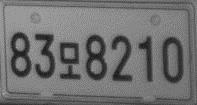0: (161, 36, 184, 84)
1: (137, 33, 155, 84)
2: (109, 34, 134, 83)
3: (33, 33, 55, 78)
8: (84, 34, 108, 80), (9, 31, 31, 77)
모: (58, 40, 81, 81)
